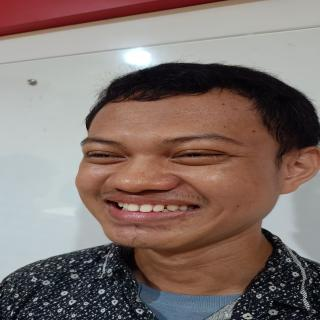Senang: (62, 82, 298, 258)
